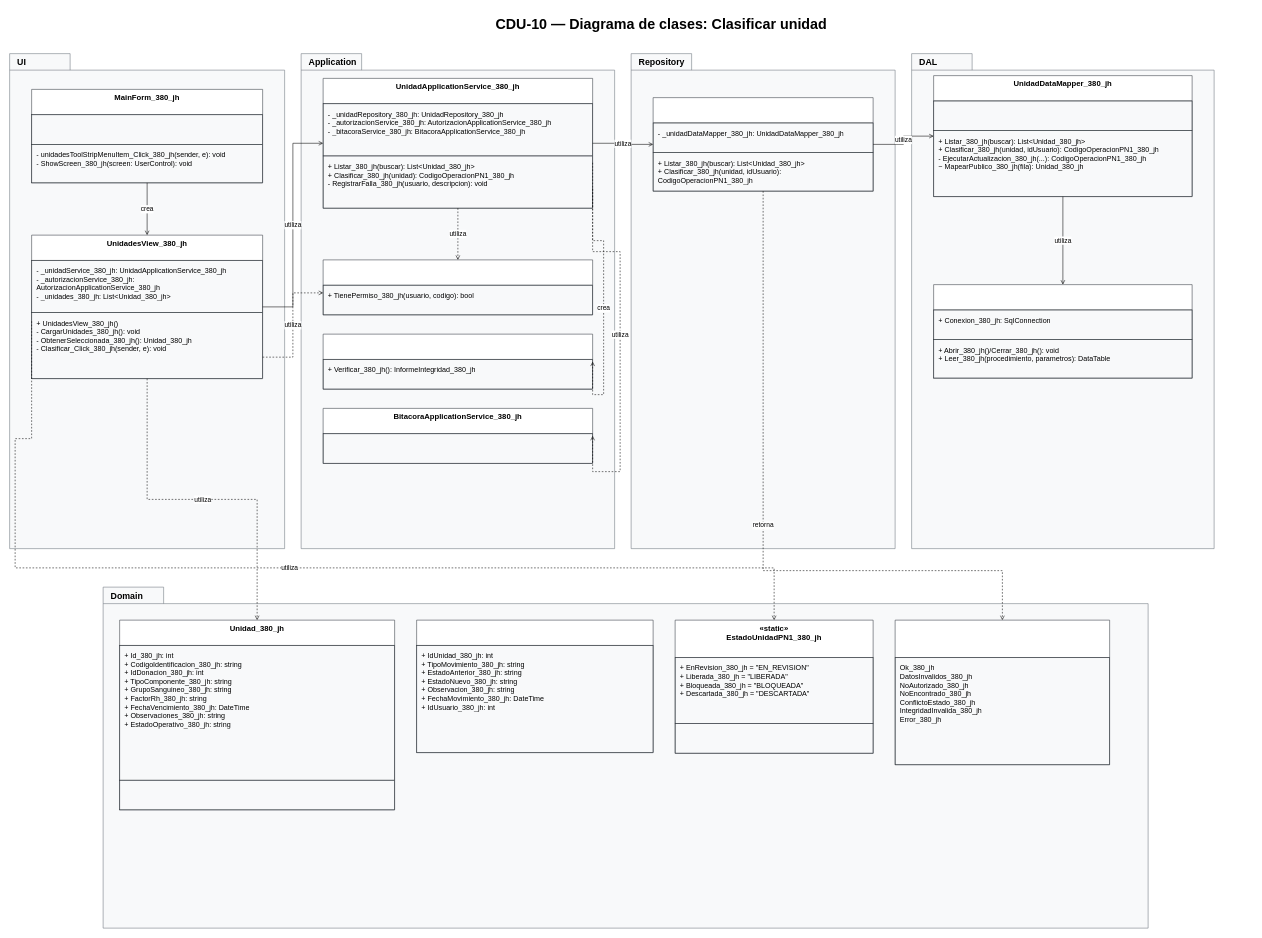
Image size: 1262x938. Some labels were removed from this diagram. Here are the shapes that lost their labels. From the top down, the box of each, then its label:
(31, 114, 263, 144): - _autorizacionService_380_jh: AutorizacionApplicationService_380_jh
(933, 100, 1192, 131): - _databaseContext_380_jh: DatabaseContext_380_jh
(653, 97, 873, 191): UnidadRepository_380_jh
(323, 259, 593, 315): AutorizacionApplicationService_380_jh
(933, 284, 1192, 378): DatabaseContext_380_jh
(323, 334, 593, 389): IntegridadApplicationService_380_jh
(323, 433, 593, 463): + RegistrarEvento_380_jh(...): bool
(416, 620, 653, 753): MovimientoUnidad_380_jh
(895, 620, 1110, 765): «enumeration» CodigoOperacionPN1_380_jh
(675, 723, 873, 753): + EsEstadoFinal_380_jh(estado): bool
(119, 780, 395, 810): + EstaClasificada_380_jh: bool
